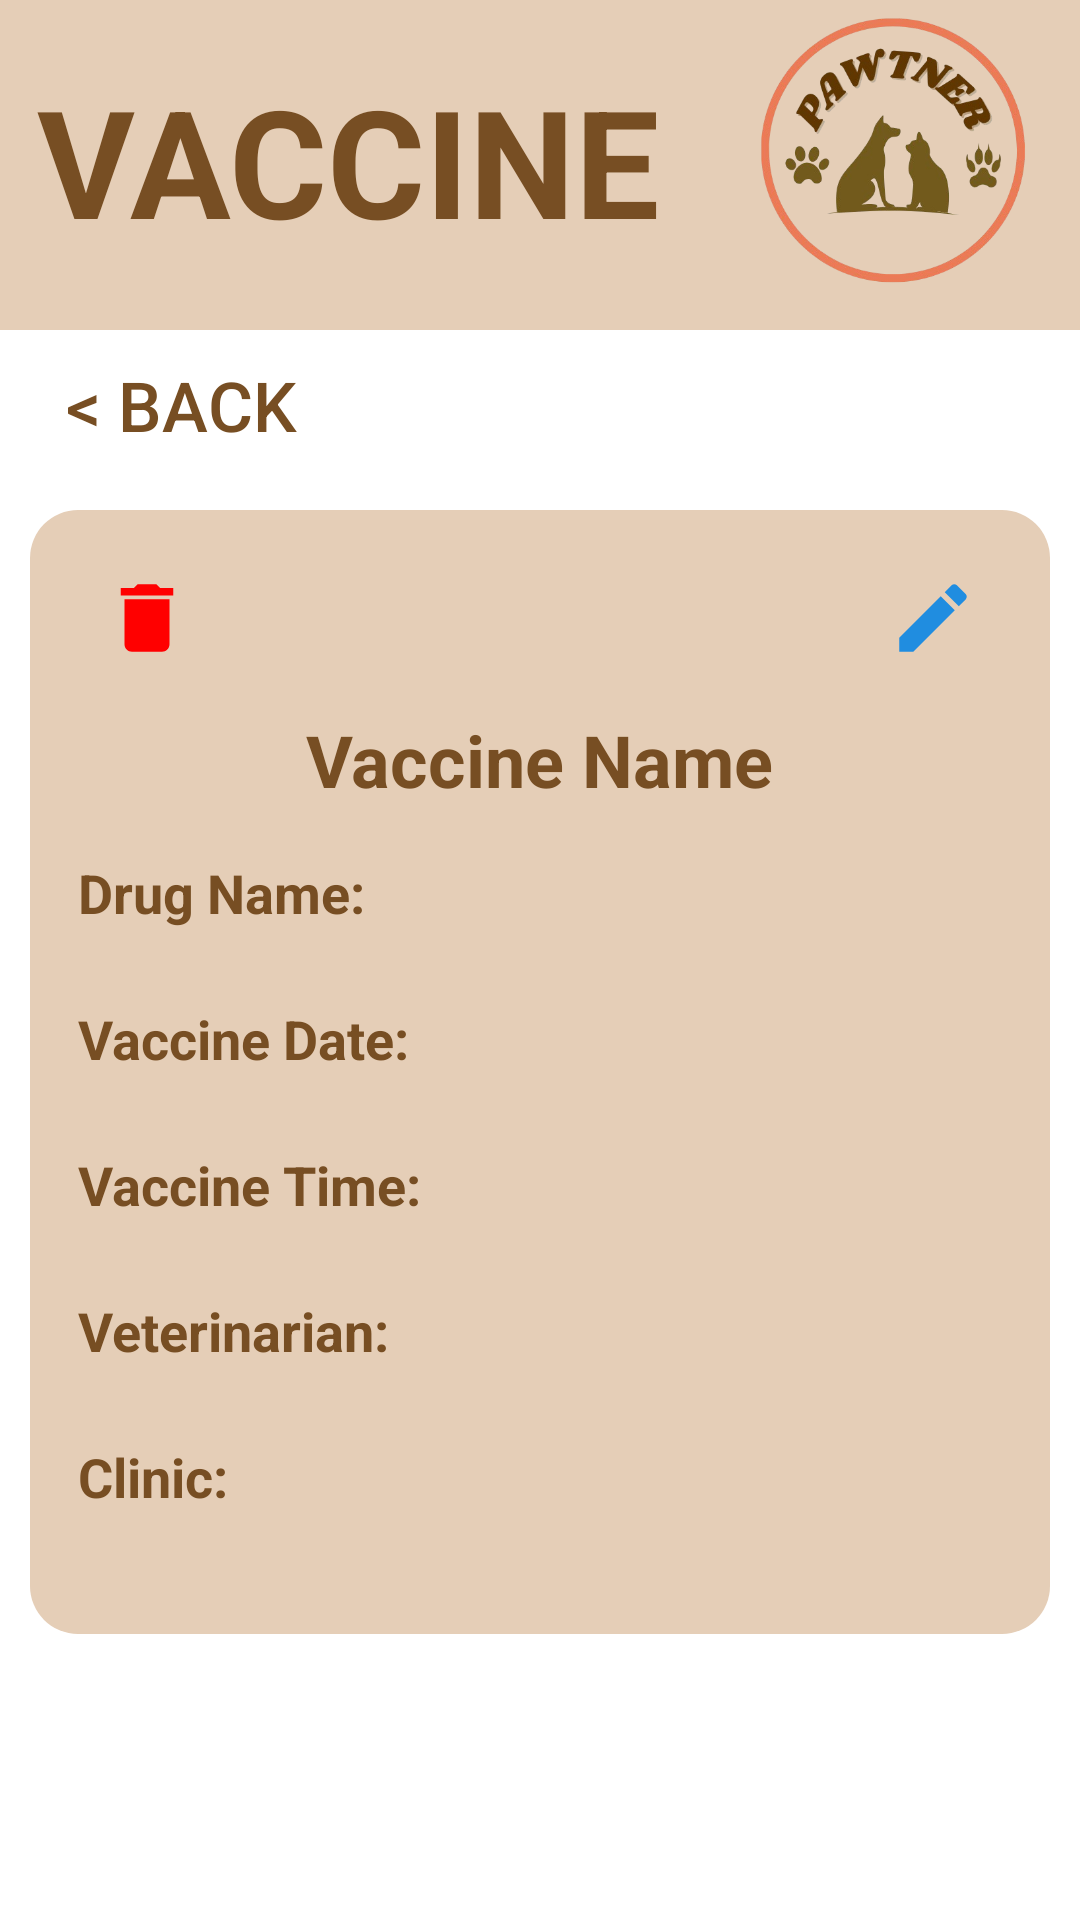

Named icons in this screenshot (1080×1920) and their centers, (x=x, y=y):
Delete Icon: (x=147, y=618)
Update Icon: (x=933, y=618)
